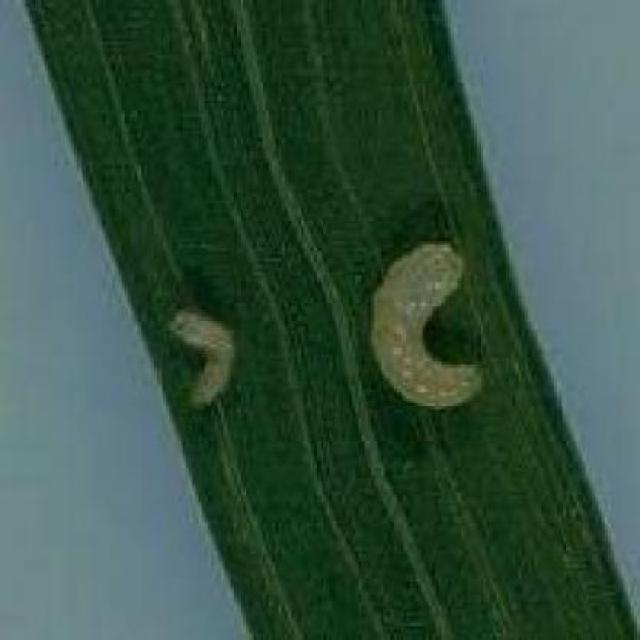whorl-maggot: (355, 231, 494, 426), (155, 303, 250, 415)
